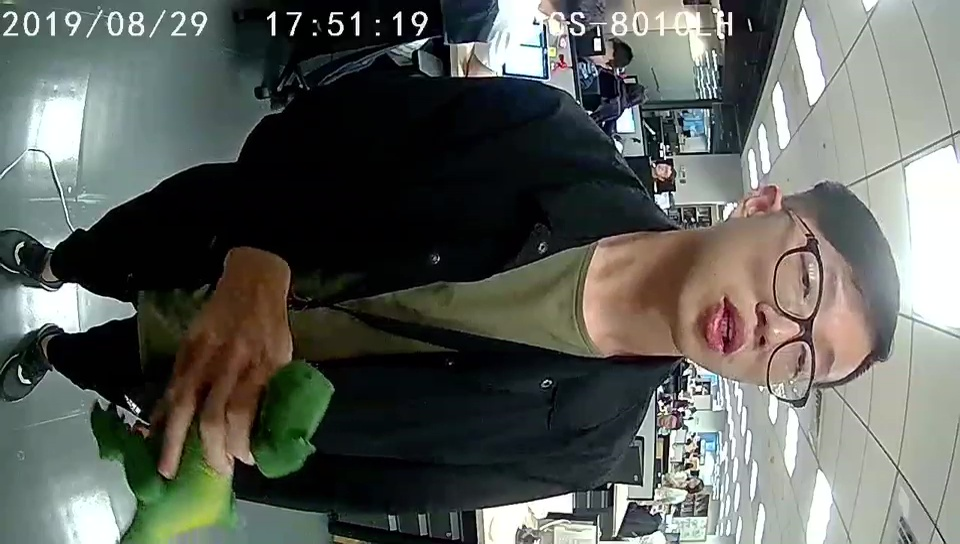rex: (83, 353, 336, 544)
